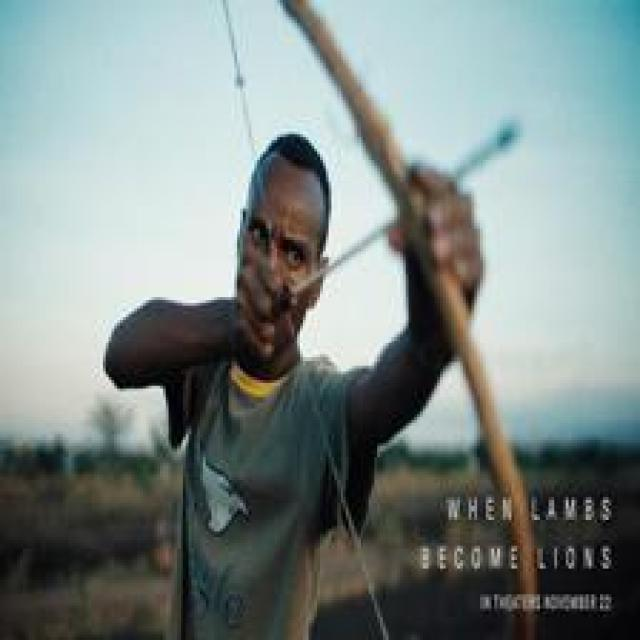X-Bow: (278, 0, 576, 640)
